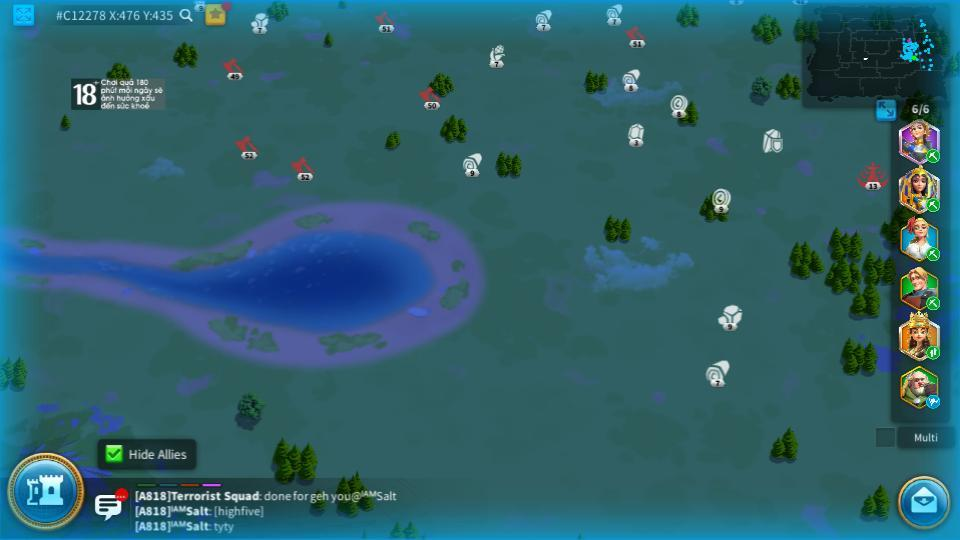gem-z-out: (626, 123, 645, 145)
march_farming: (923, 198, 940, 213), (924, 149, 939, 162), (925, 297, 941, 308)
march_idle: (925, 396, 941, 408)
march_marching: (925, 345, 941, 359)
